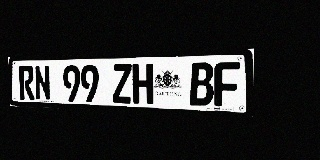9: (80, 65, 99, 102), (63, 65, 81, 102)
B: (190, 62, 214, 106)
F: (214, 62, 240, 107)
H: (132, 64, 153, 104)
N: (34, 65, 51, 101)
R: (19, 66, 35, 100)
Z: (112, 64, 132, 103)
